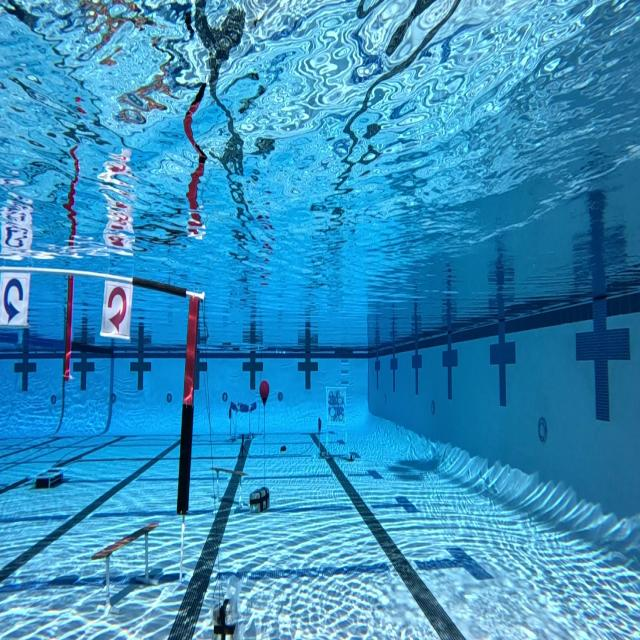blue_side: (0, 270, 30, 332)
red_side: (101, 279, 132, 342)
